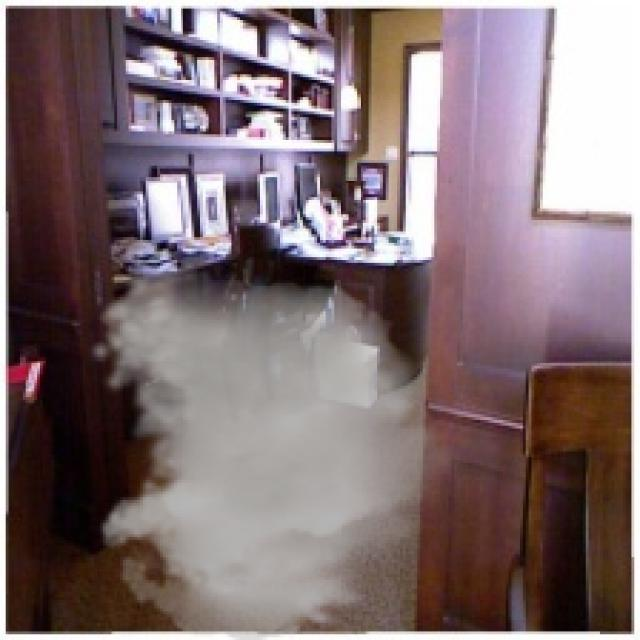Smoke: (89, 266, 472, 638)
